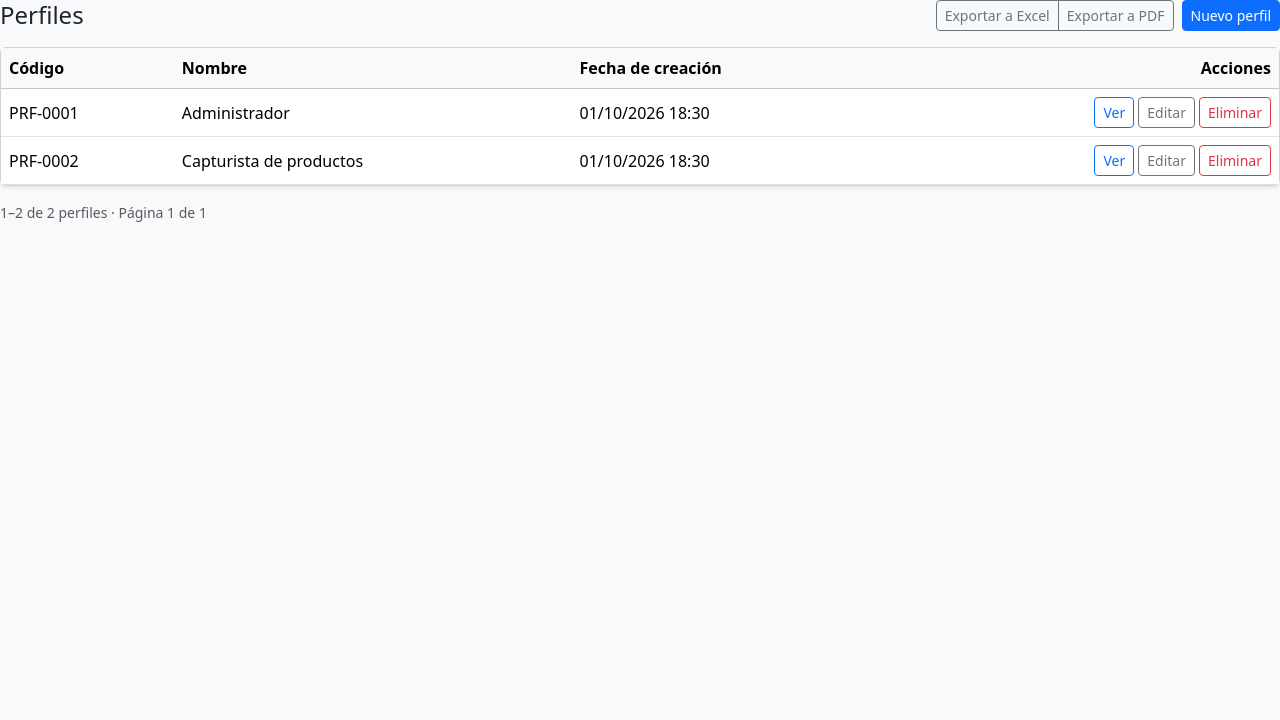
Scenario: ProfileListComponent › elimina tras confirmar y recarga la página
The width and height of the screenshot is (1280, 720).
Click the button "Eliminar" in the row of "PRF-0001".
click(1235, 112)  # box [1199, 97, 1271, 128]
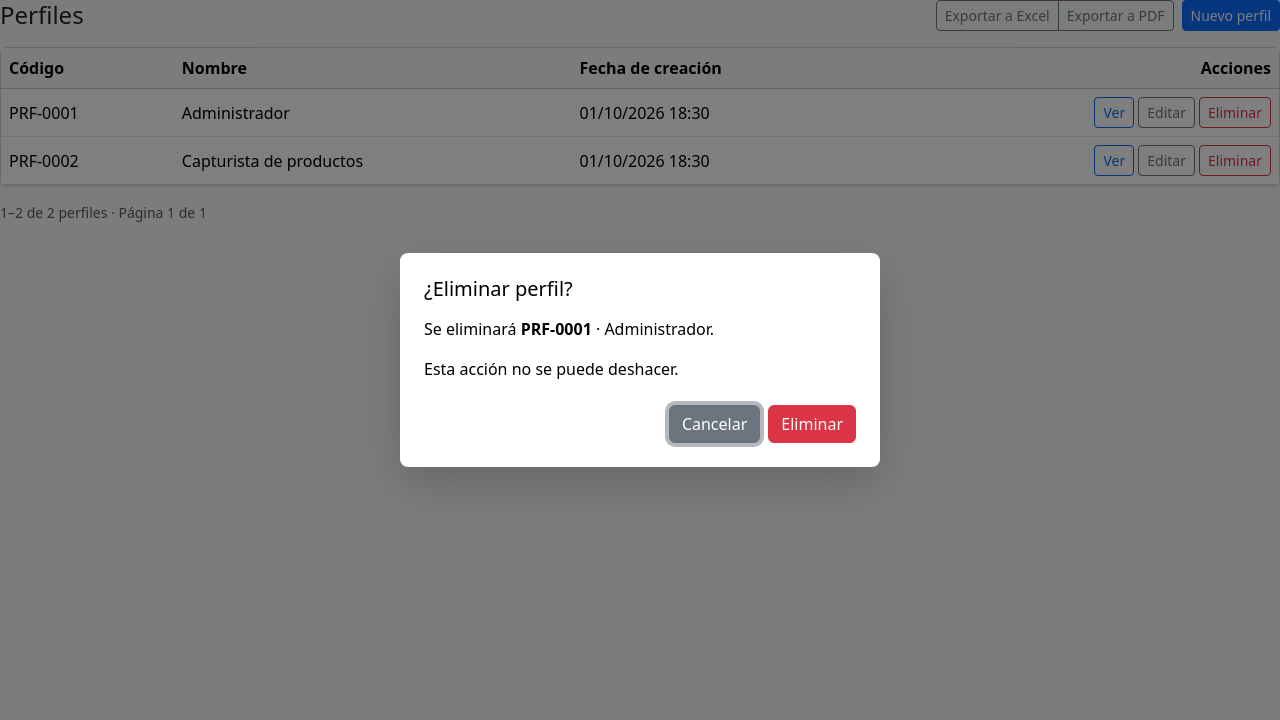
Now the dialog shows "PRF-0001", box [521, 318, 592, 340]
Click the button with class "btn-danger".
click(812, 424)  # box [768, 405, 856, 443]
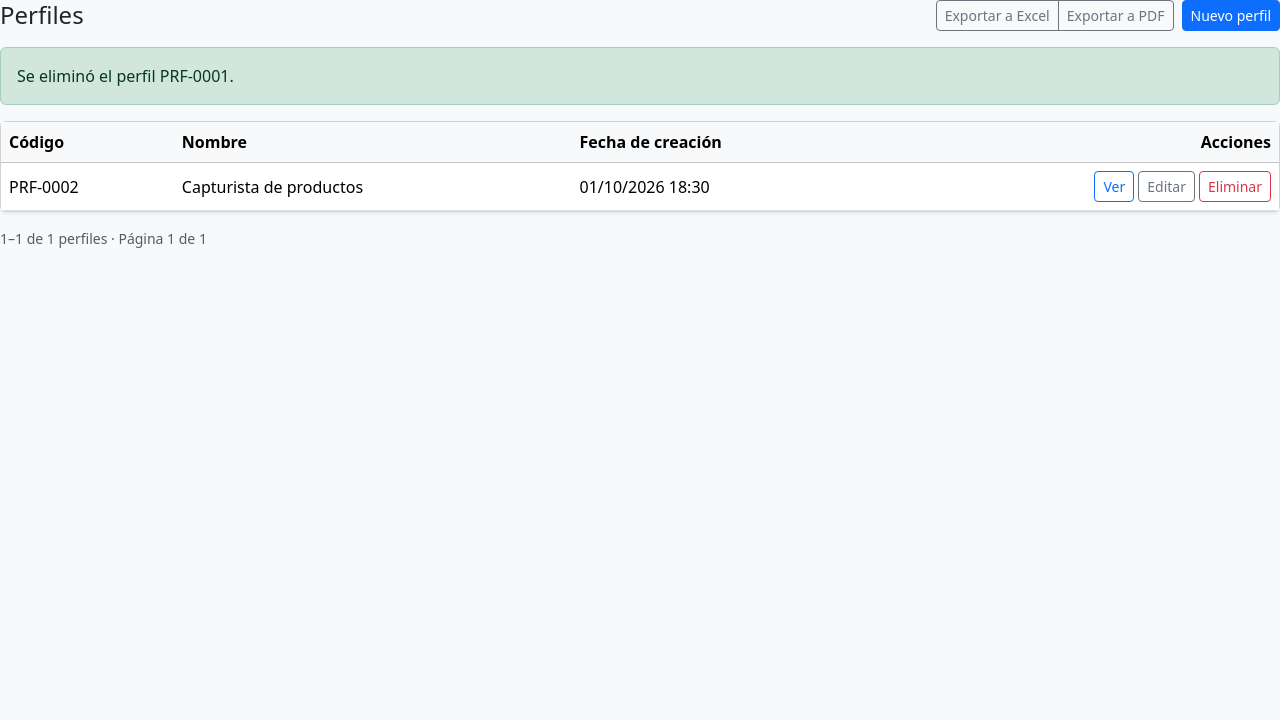
Now the message "Se eliminó el perfil PRF-0001." is shown, box [0, 47, 1279, 105]
